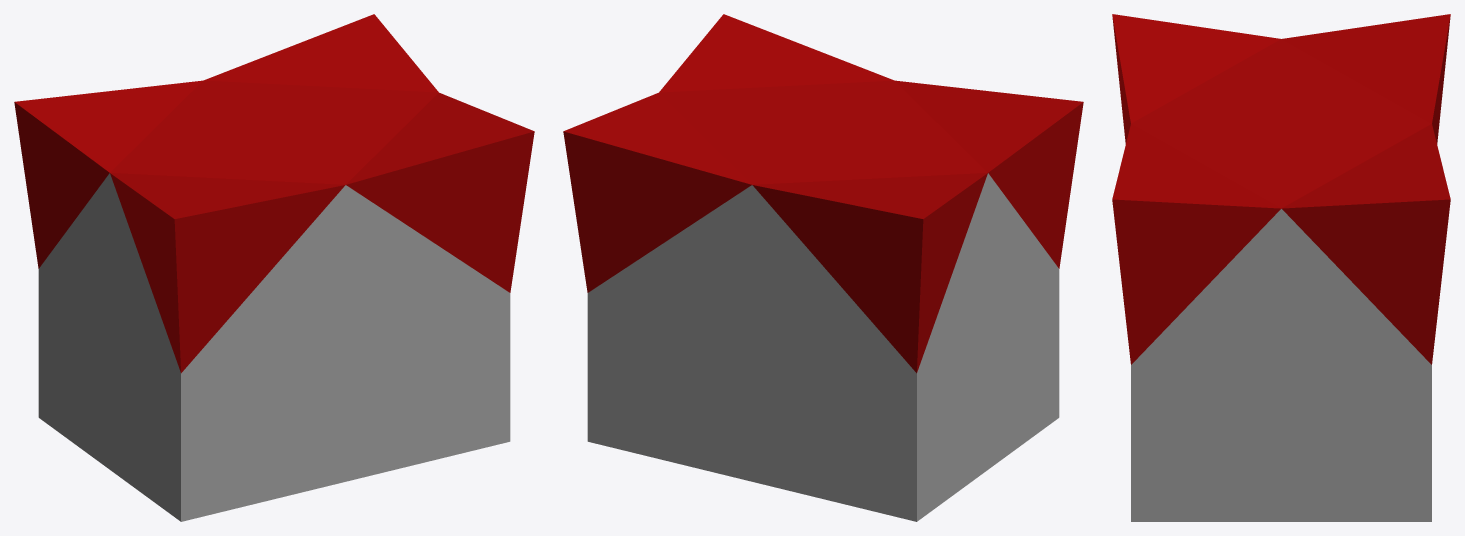
The model's file is CubeTest.fbx.
3 renders of one model, left to right at view 1: azimuth 30°, elevation 25°; view 2: azimuth 150°, elevation 25°; view 3: azimuth 270°, elevation 25°, orthographic. The views are drawn at different scales.
Visible parts, largest first — view 1: pCube1; view 2: pCube1; view 3: pCube1.
Boxes of the visible parts, box(x1,y1,x2,y2) form: pCube1: box(14, 14, 534, 521); pCube1: box(563, 14, 1083, 521); pCube1: box(1112, 14, 1450, 521).
Bounding box in the file's own units: 13.49 × 11.2 × 10.4.
